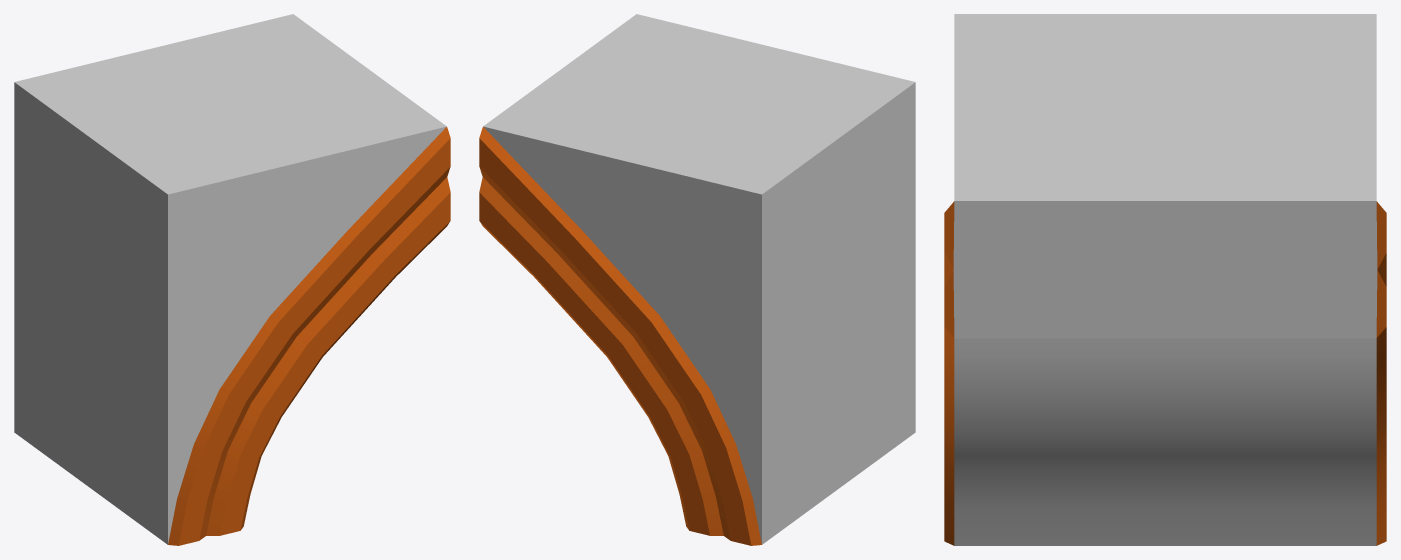
The model's file is dfk_arch_0_half_vlocked_large.fbx.
The picture shows the model from 3 angles, left to right: view 1: azimuth 30°, elevation 25°; view 2: azimuth 150°, elevation 25°; view 3: azimuth 270°, elevation 25°; orthographic projection. The views are drawn at different scales.
Parts seen in each view (by area): view 1: Arch_1b_block_2; view 2: Arch_1b_block_2; view 3: Arch_1b_block_2.
Boxes of the visible parts, x1,y1,x2,y2 form: Arch_1b_block_2: (14,14,450,545); Arch_1b_block_2: (479,14,915,545); Arch_1b_block_2: (944,14,1386,545).
Size of the model in its own units: 2.5 by 3 by 2.5.
